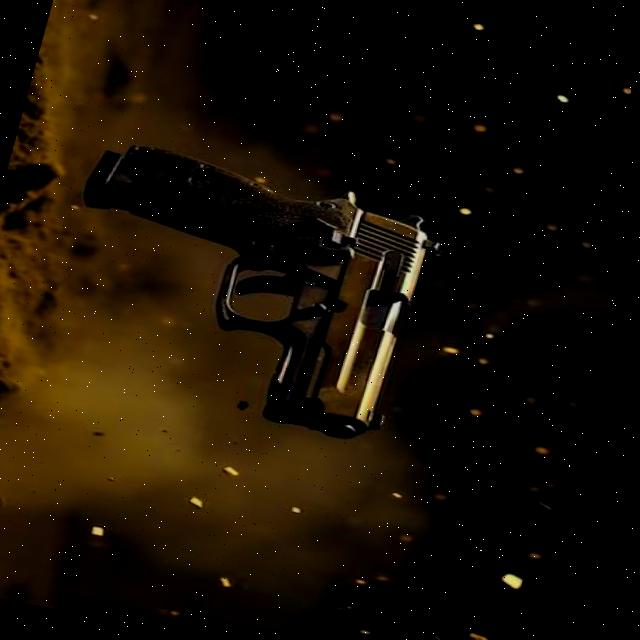gun: (77, 143, 439, 439)
